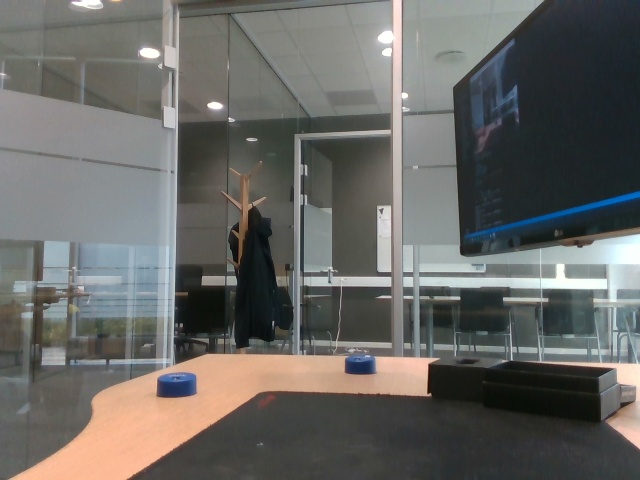alfa: (152, 368, 200, 399), (340, 349, 380, 379)
